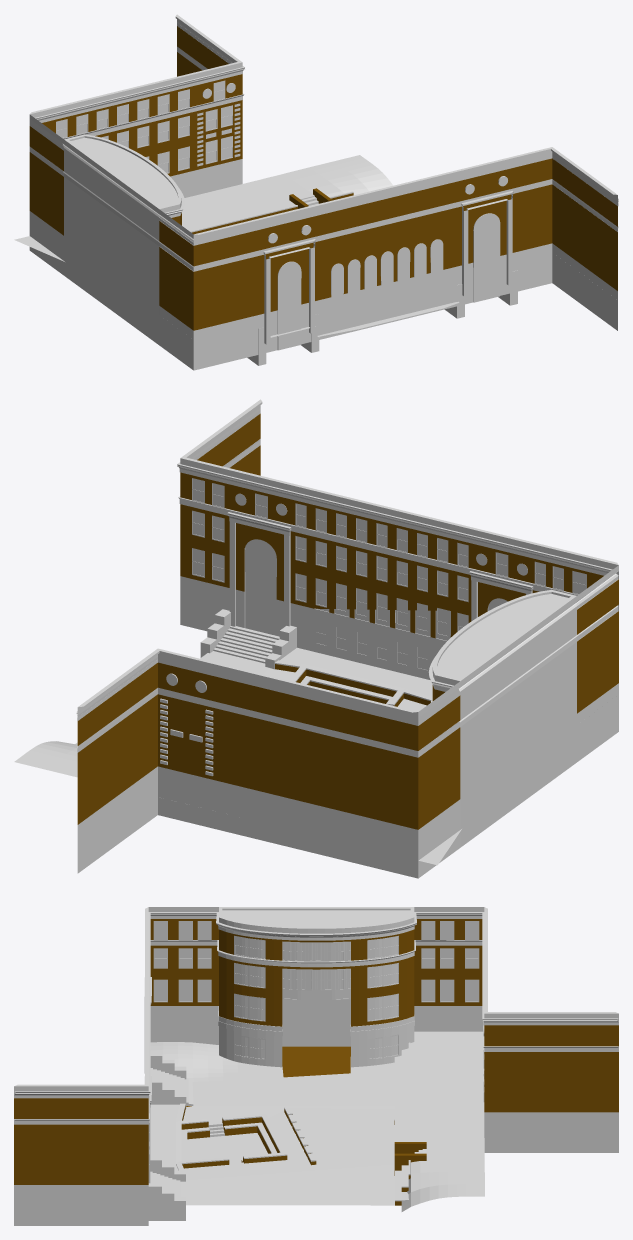
File: cech entrance -joined and seamed.fbx
3 renders of one model, top to bottom at view 1: azimuth 30°, elevation 25°; view 2: azimuth 150°, elevation 25°; view 3: azimuth 270°, elevation 25°, orthographic. The views are drawn at different scales.
Visible parts, largest first — view 1: 00building-no-windows-bricks; view 2: 00building-no-windows-bricks; view 3: 00building-no-windows-bricks.
Part boxes in pixels (bbox=[...]): 00building-no-windows-bricks: bbox=[14, 14, 618, 370]; 00building-no-windows-bricks: bbox=[14, 399, 618, 878]; 00building-no-windows-bricks: bbox=[14, 907, 618, 1225].
Size of the model in its own units: 23544 by 8873 by 32019.
